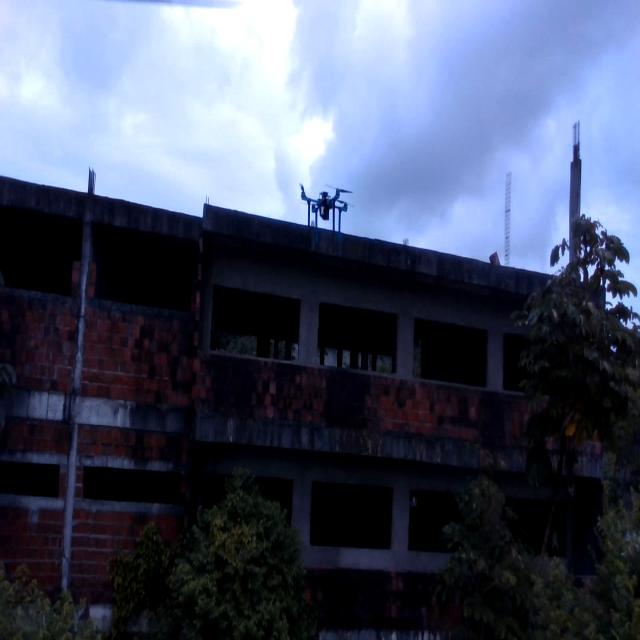-uav-: (288, 169, 357, 259)
